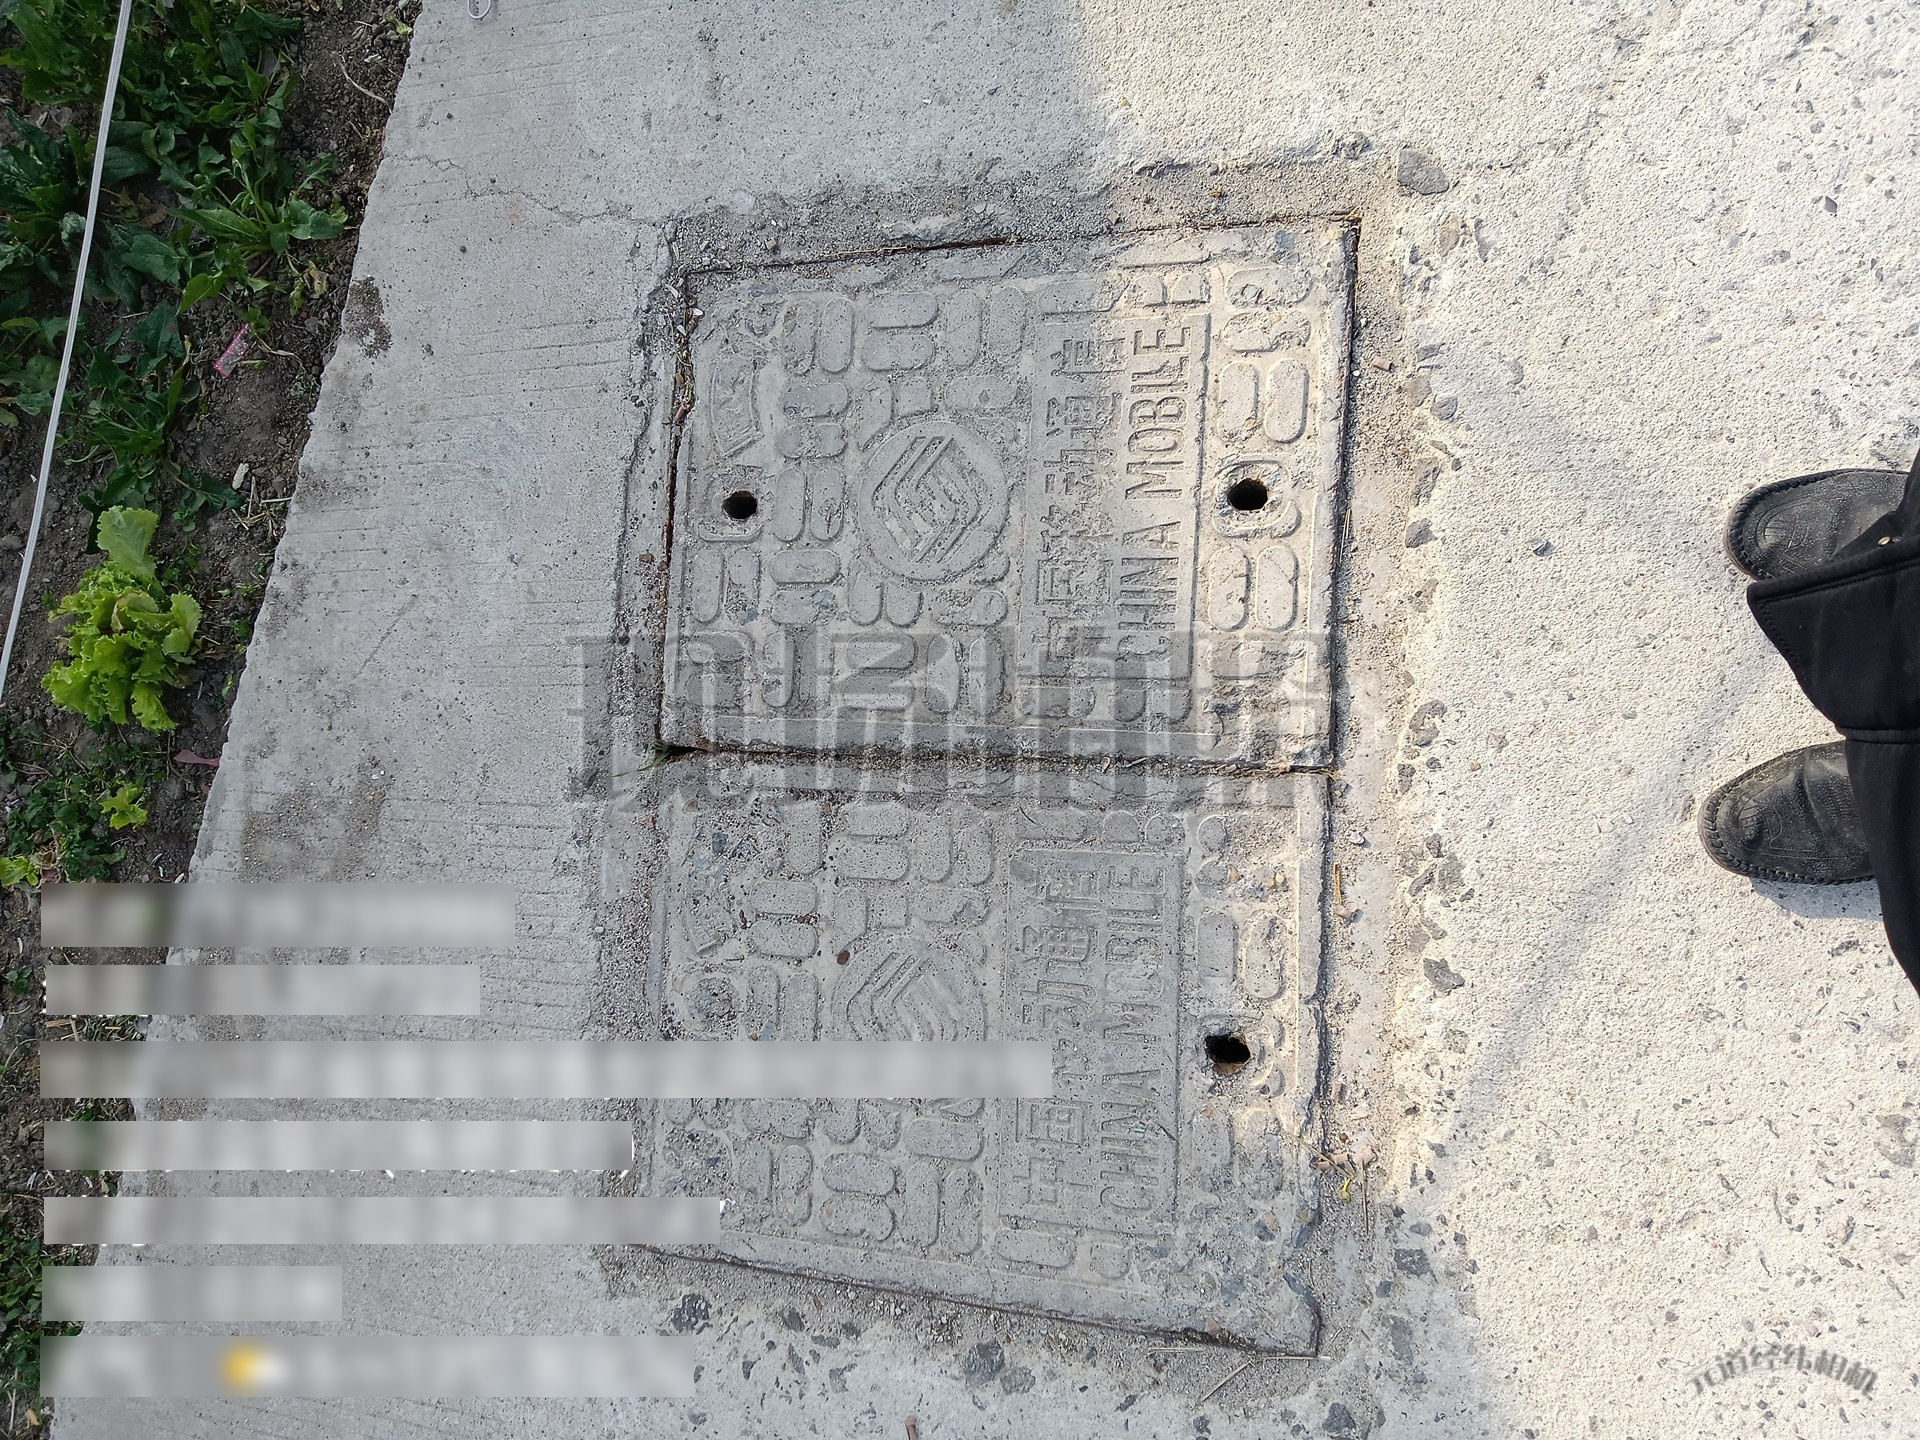good: (621, 191, 1383, 1392)
